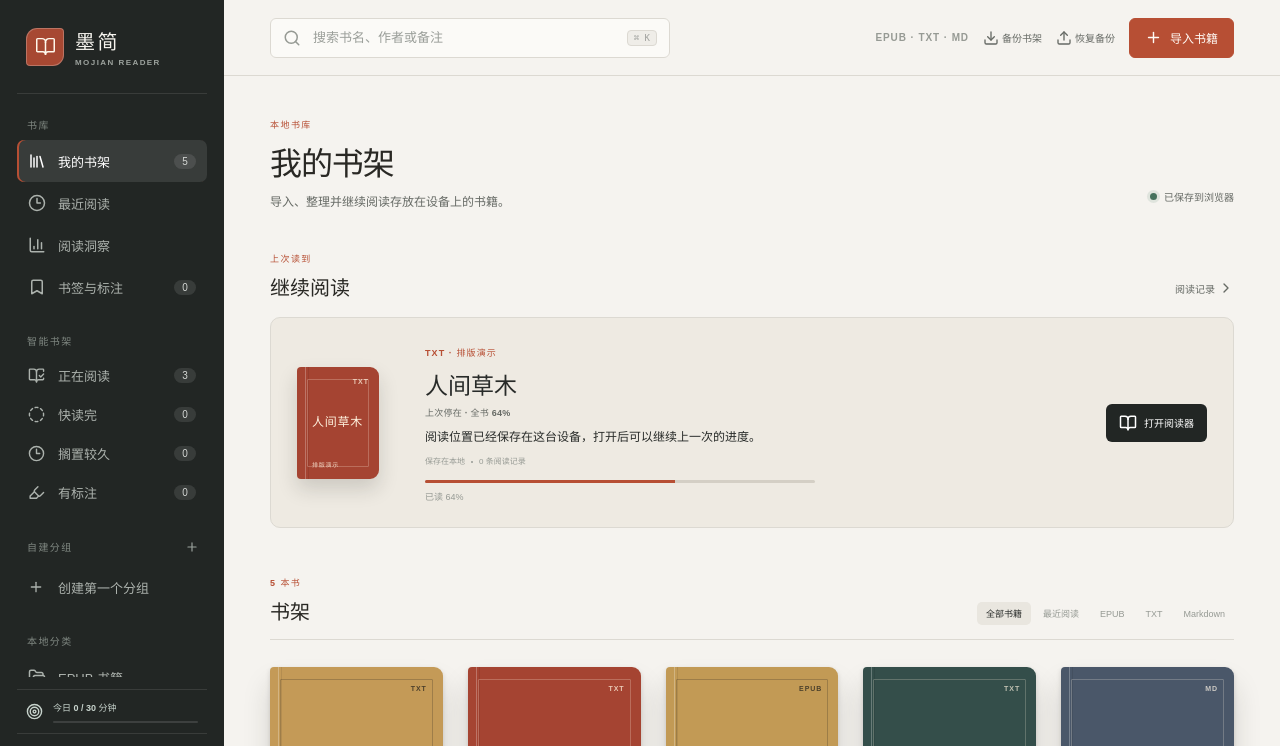
Test: Mojian Reader › persists a bookmark and reopens the book from the marks workspace
What coordinates should you click on to do the following:
click the button with aria-label "继续阅读人间草木"
I would click on:
 (752, 423)
Its box is [270,317,1234,528].
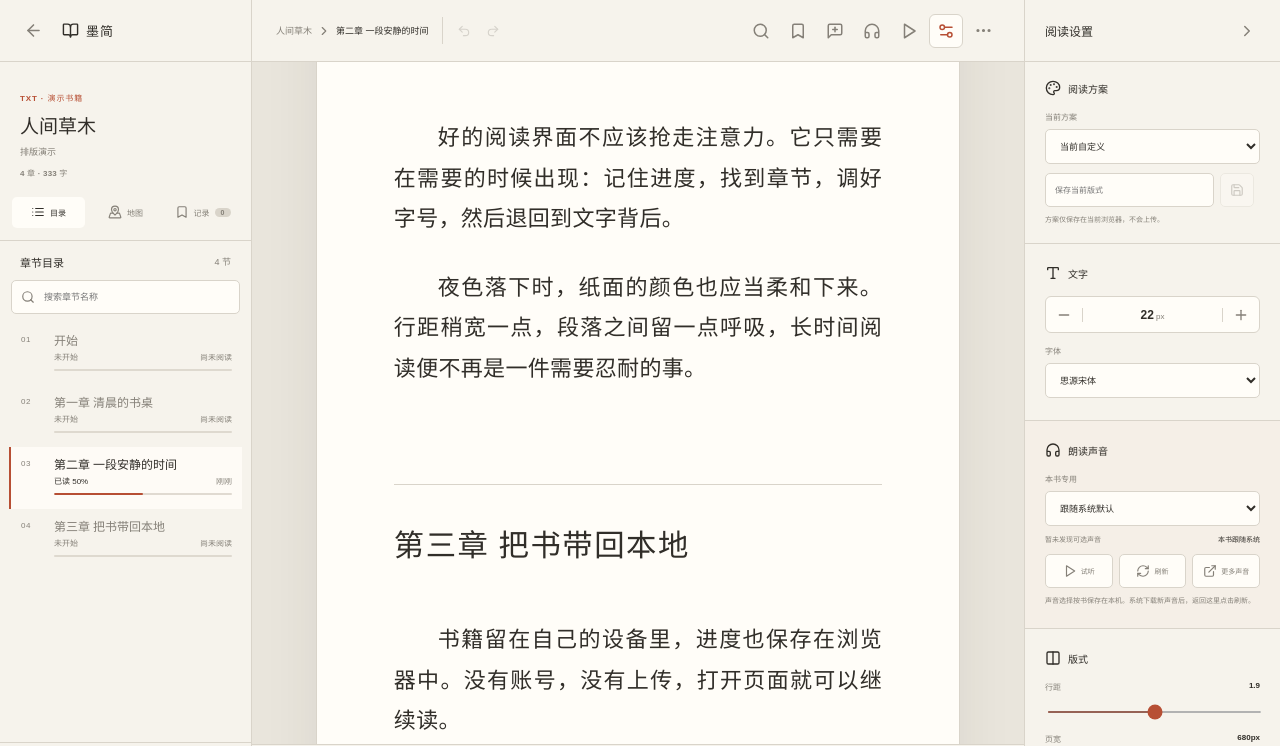
What coordinates should you click on to do the following:
click the button named "添加书签"
I would click on:
 (798, 30)
Its box is [781,14,815,48].
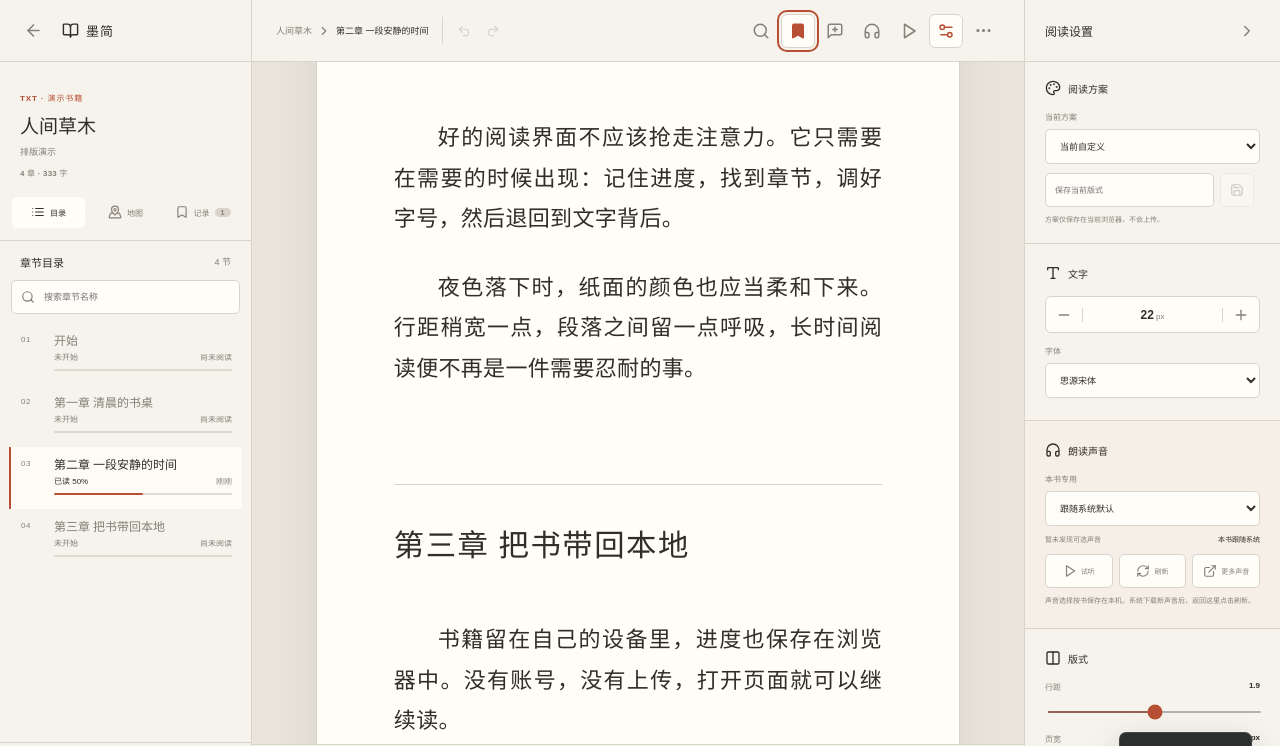
What coordinates should you click on to do the following:
click the button named "返回书架"
I would click on:
 (33, 30)
Its box is [16,14,50,48].
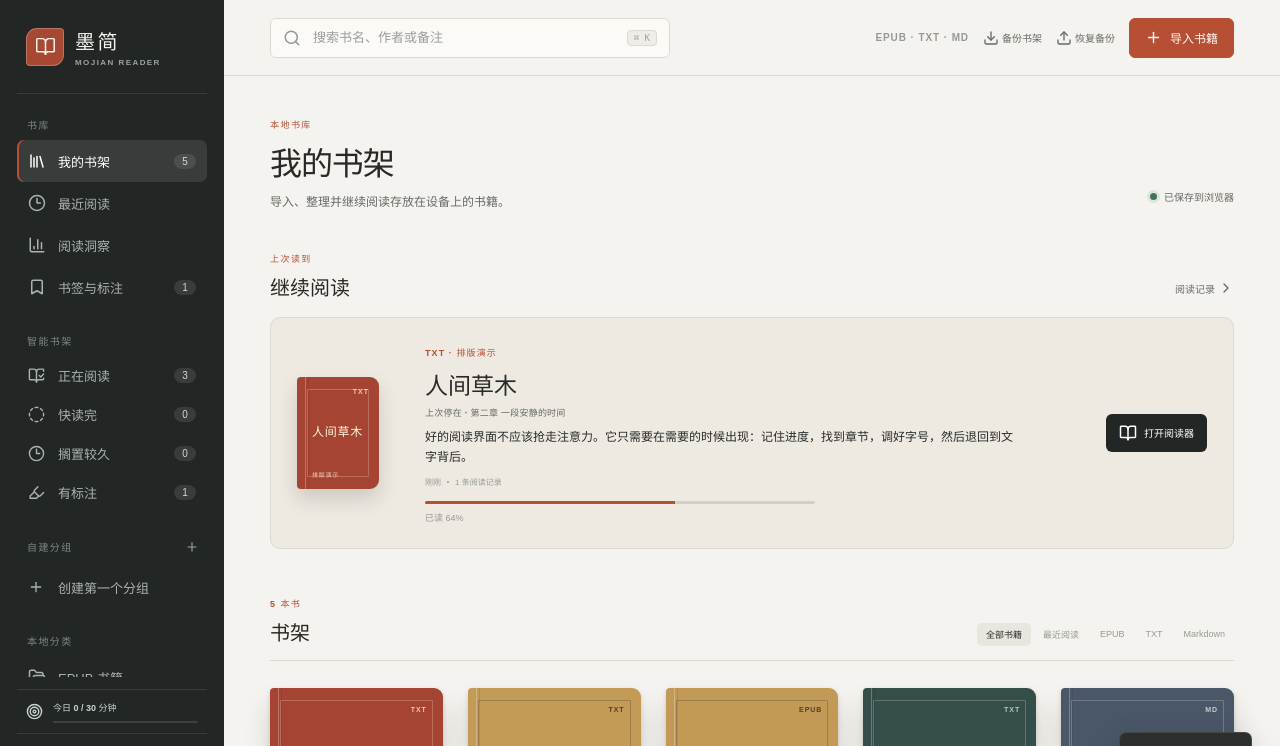
What coordinates should you click on to do the following:
click the button "书签与标注 1"
I would click on:
 (112, 287)
Its box is [17,266,207,308].
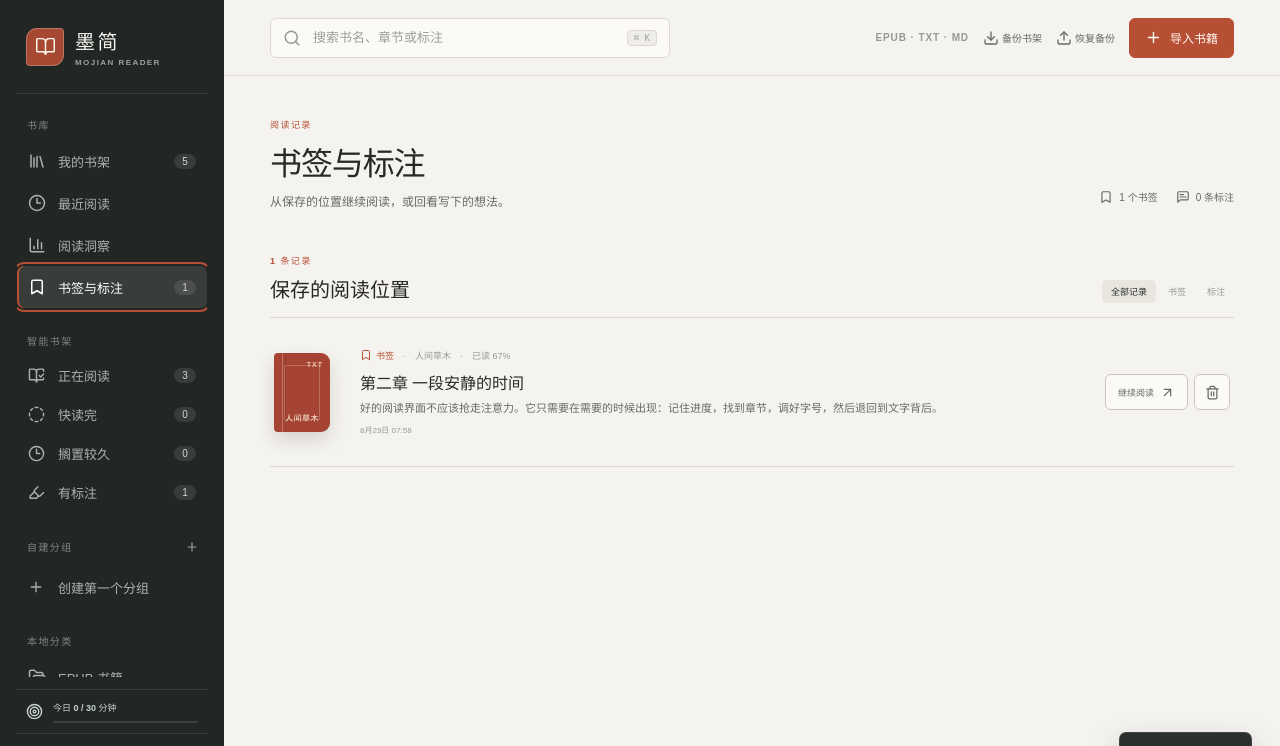
Expected: the heading "书签与标注" is shown, [270,146,424,182]
What coordinates should you click on to do the following:
click the button with aria-label "跳转到"
I would click on:
 (1146, 392)
Its box is [1105,374,1188,410].
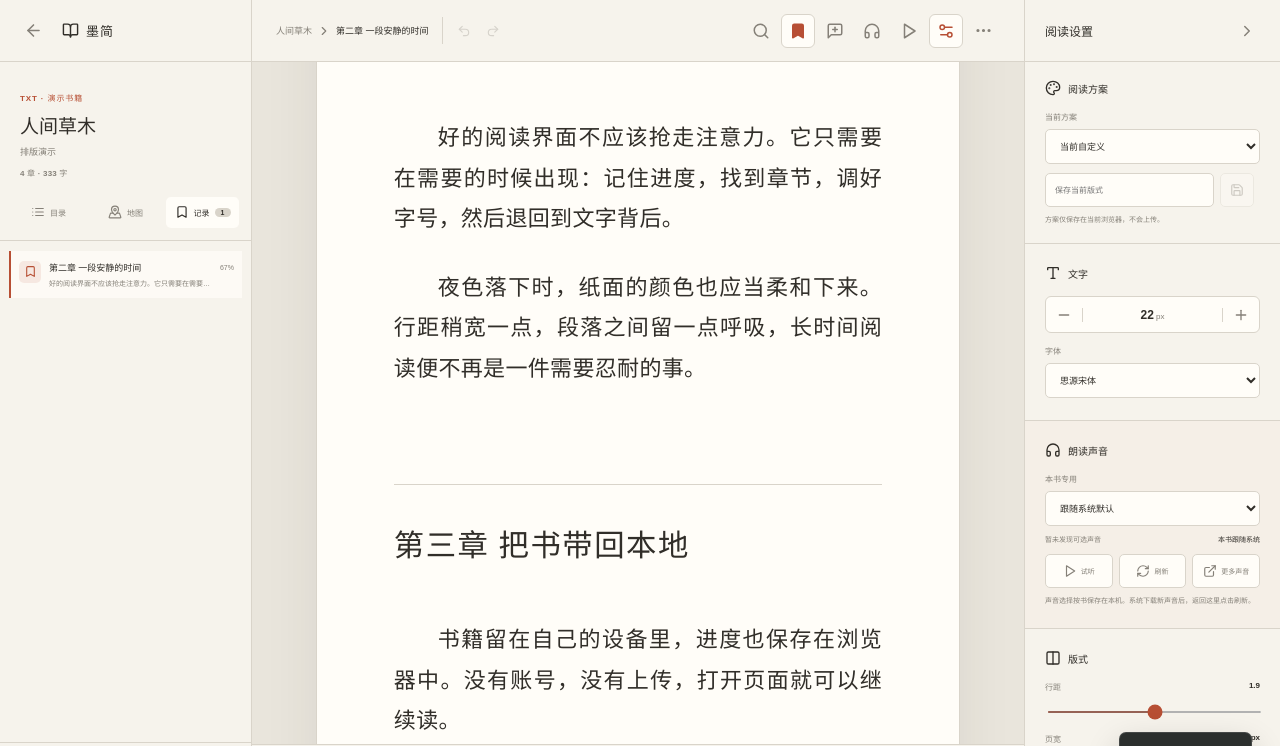
Expected: the heading "人间草木" is shown, [20,116,96,137]
Expected: the button named "移除书签" is shown, [781,14,815,48]
